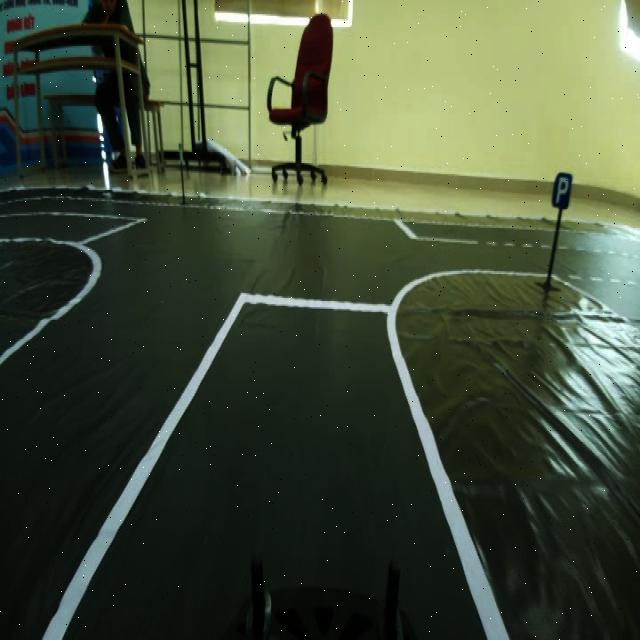parking: (552, 168, 573, 209)
